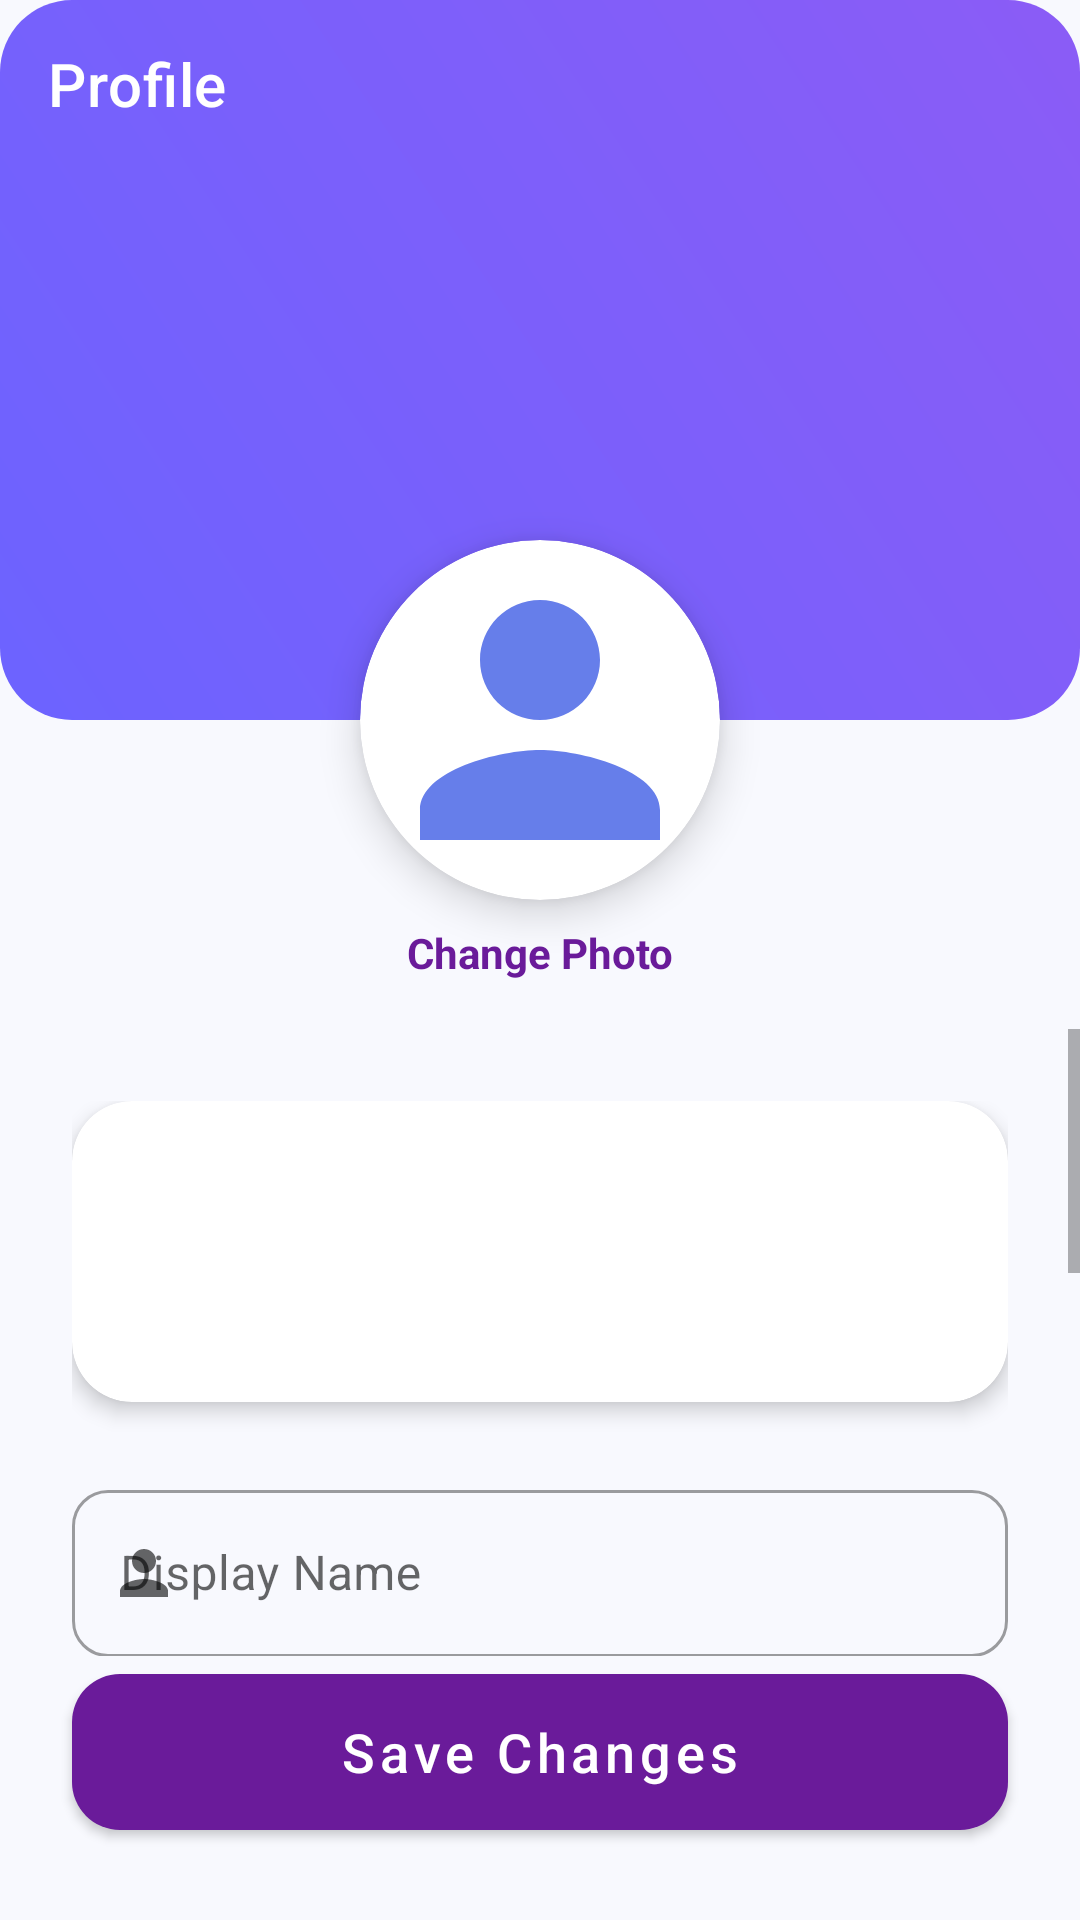

Icons on this 1080*1920 Android screen, each with the point to tap as [x,y]:
profile: [540,720]
